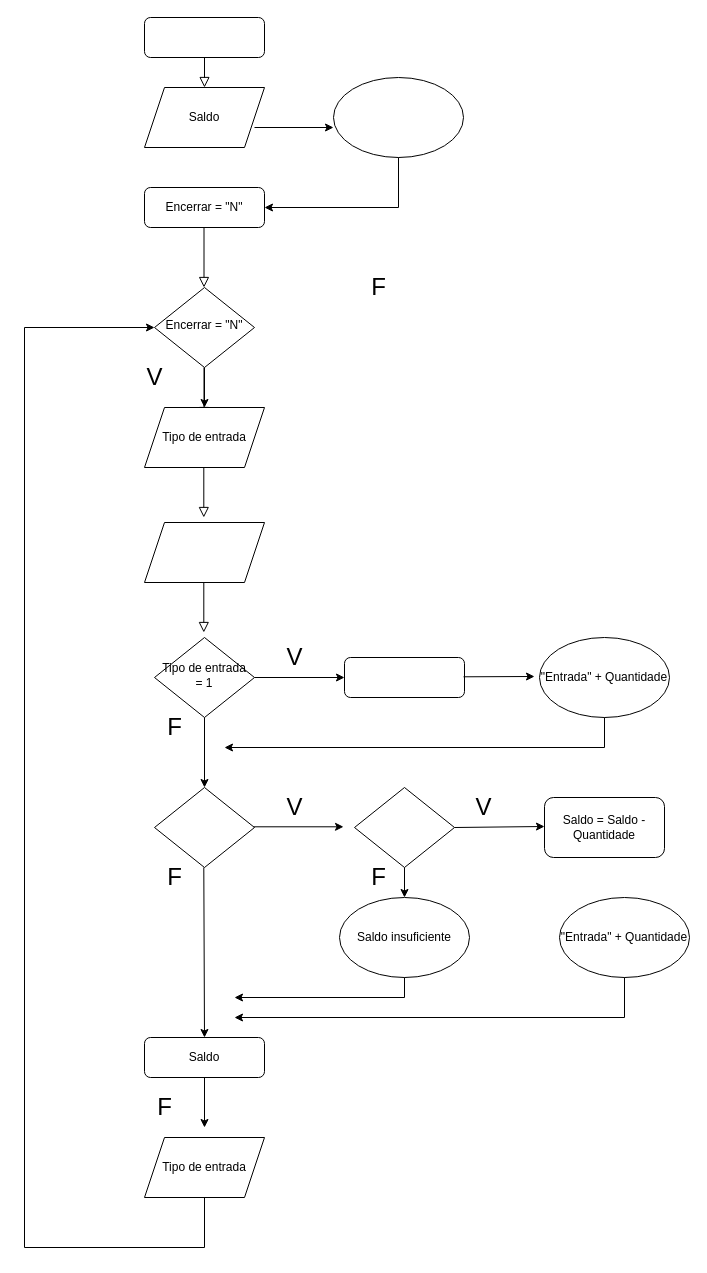
Image size: 707x1273. Some labels were removed from this diagram. Here are the shapes that lost their labels. From the top down, the centre of each, then its label:
At (204,37): "Inicio".
At (398,117): "Saldo inicial".
At (204,552): "Quantidade".
At (404,677): "Saldo = Saldo + Quantidade".
At (204,827): "Tipo de entrada = 2".
At (404,827): "Saldo >=Quantidade".
